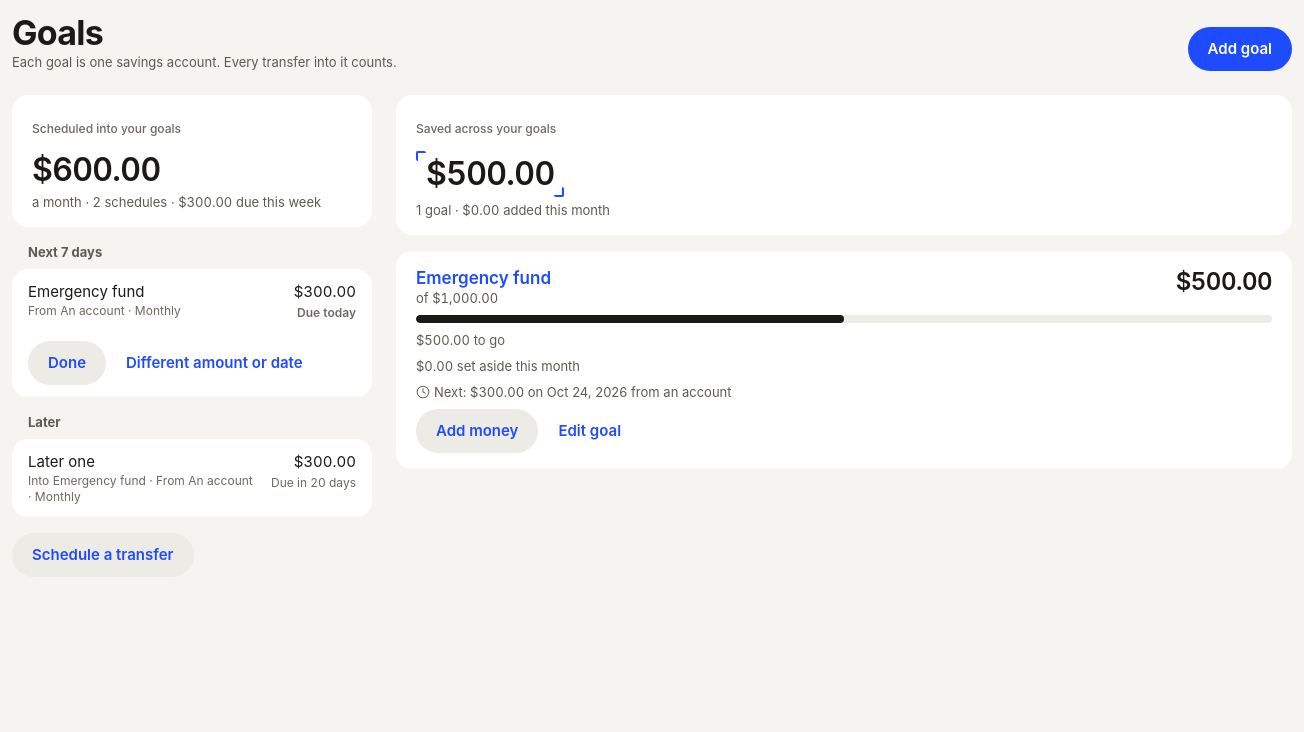
GoalsPage › lists the transfers scheduled into goals, and marks one done in one click
The image size is (1304, 732).
expect the heading "Next 7 days" is shown: met, box [28,244,102,260]
expect the heading "Later" is shown: met, box [28,414,61,430]
Step 1. Click the button with aria-label "Done: Emergency fund" → [67, 363], box [28,341,106,385]
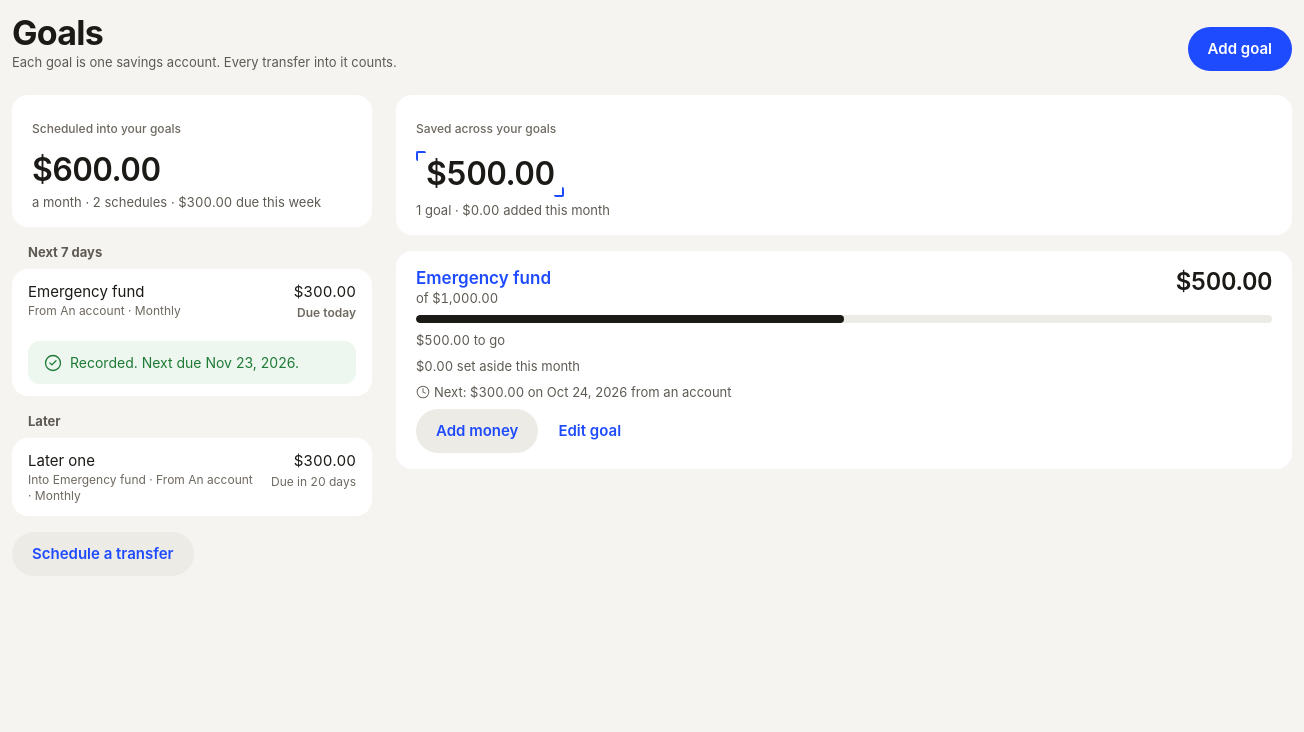
expect the text "Recorded. Next due Nov 23, 2026." is shown: met, box [70,353,299,372]
